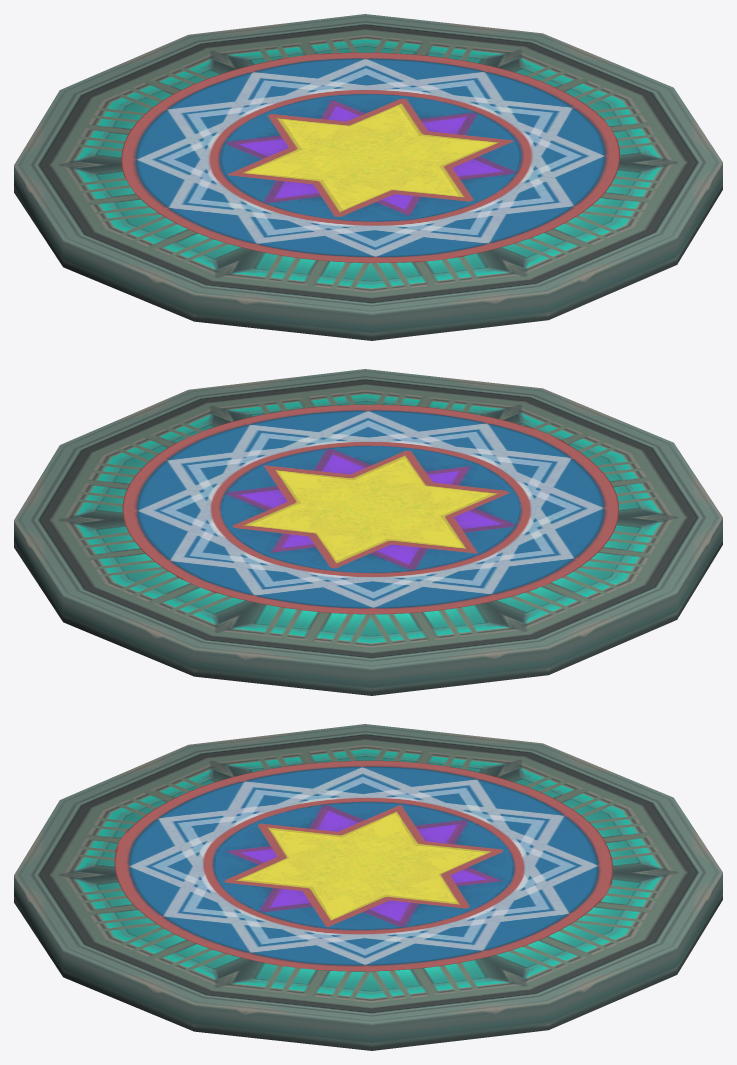
File: yuanshiban_02.FBX
The picture shows the model from 3 angles, top to bottom: view 1: azimuth 30°, elevation 25°; view 2: azimuth 150°, elevation 25°; view 3: azimuth 270°, elevation 25°; orthographic projection.
Visible parts, largest first — view 1: yuanshiban_02; view 2: yuanshiban_02; view 3: yuanshiban_02.
Part boxes in pixels (box(x1,y1,x2,y2)): yuanshiban_02: box(14, 14, 722, 340); yuanshiban_02: box(14, 369, 722, 695); yuanshiban_02: box(14, 724, 722, 1050).
Bounding box in the file's own units: 214 × 11.64 × 214.
